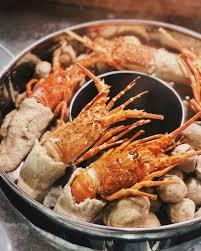bakso: (17, 32, 201, 228)
